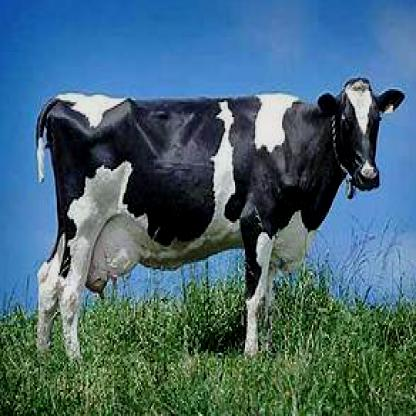cow: (34, 76, 408, 359)
